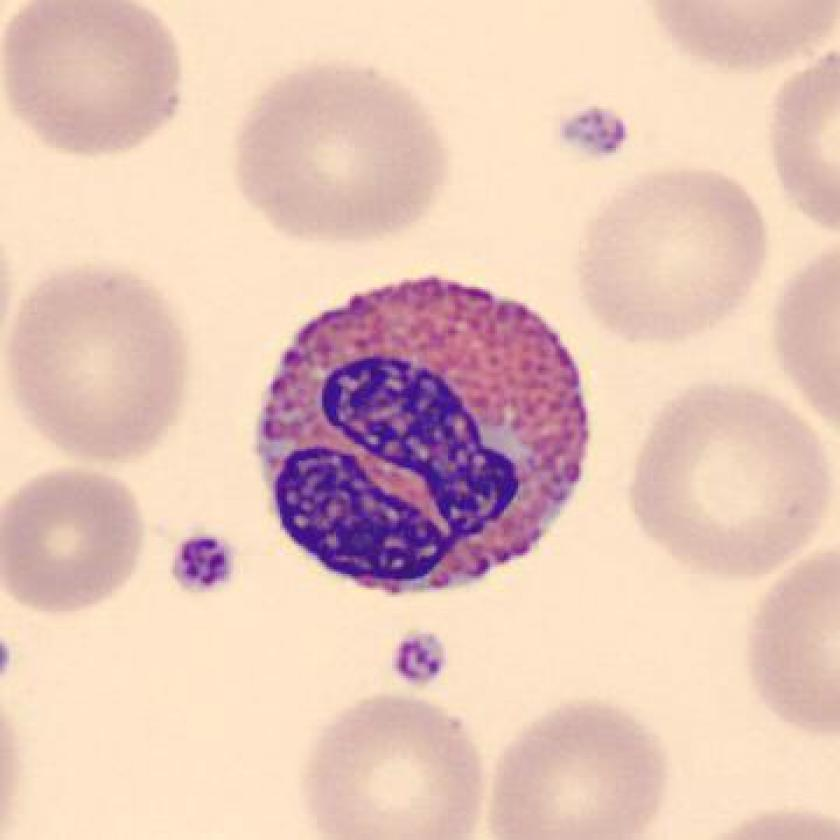eosinophil: (246, 258, 598, 612)
